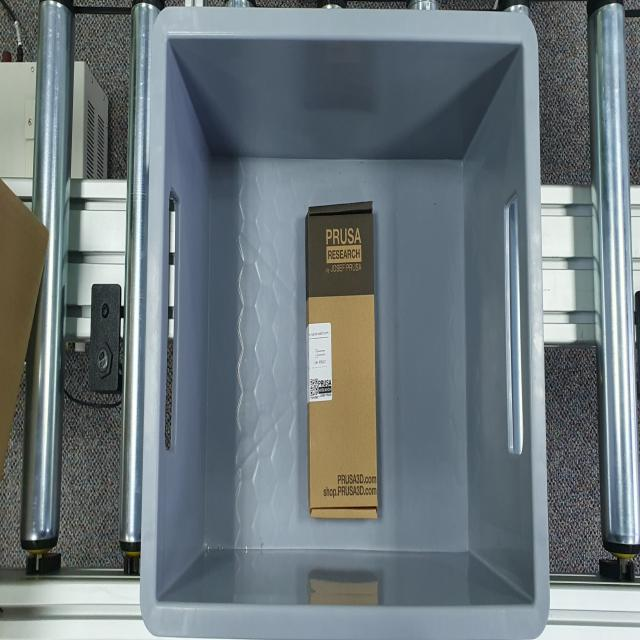box: (306, 204, 380, 514)
